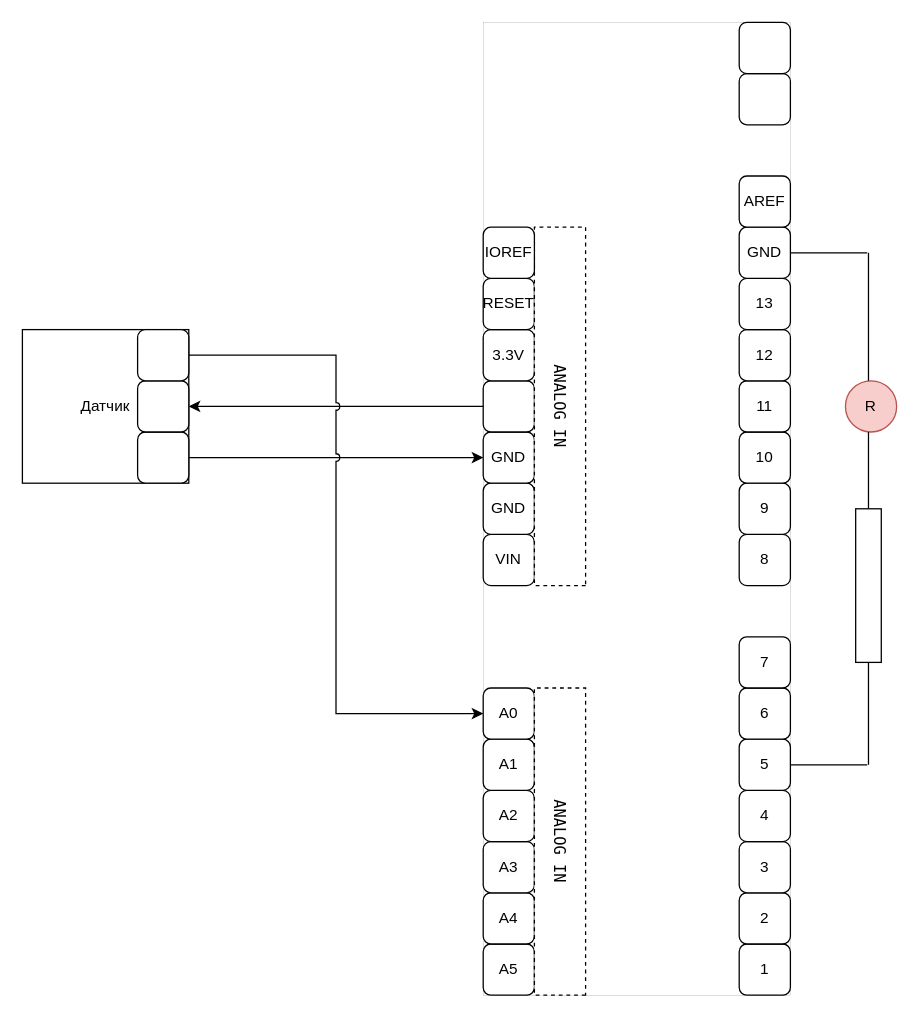
The diagram is 919 pixels wide and 1018 high, and some of its shapes have lost their labels. The centre of each missing label's shape, as x and y in pixels:
"5V" goes at point (508, 406).
"резистор" goes at point (867, 585).
